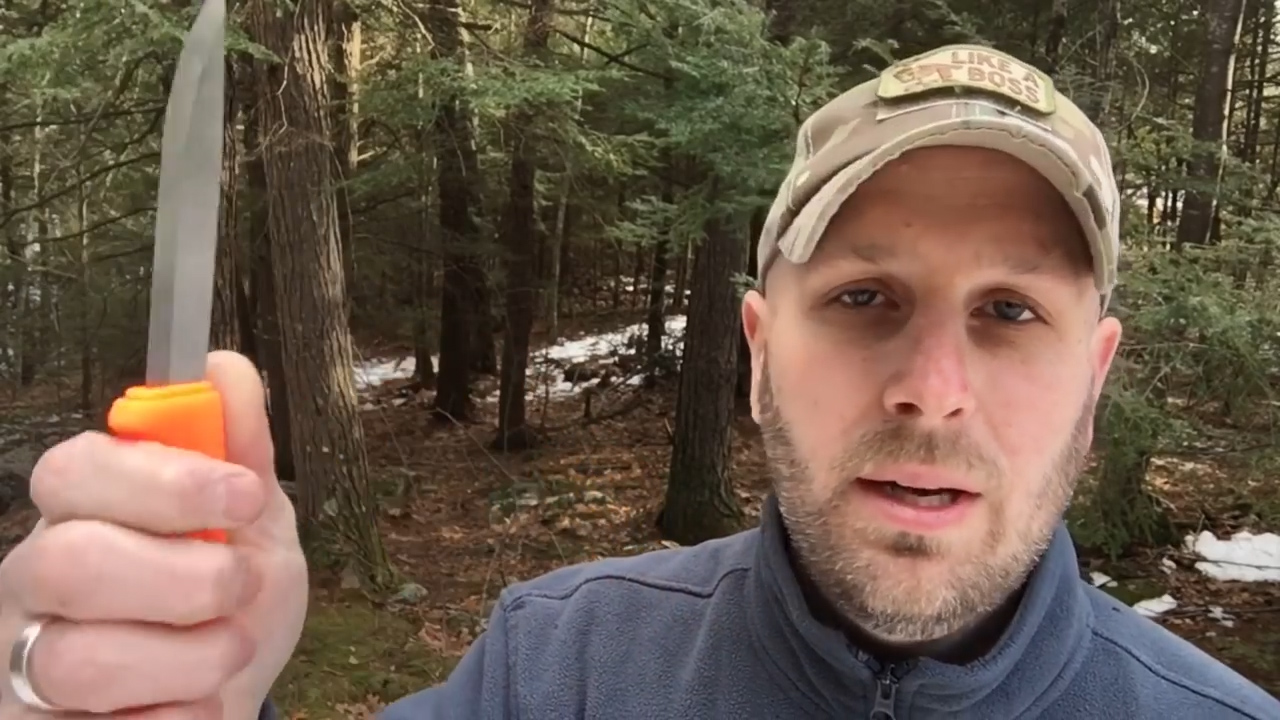knife: (1, 1, 321, 599)
